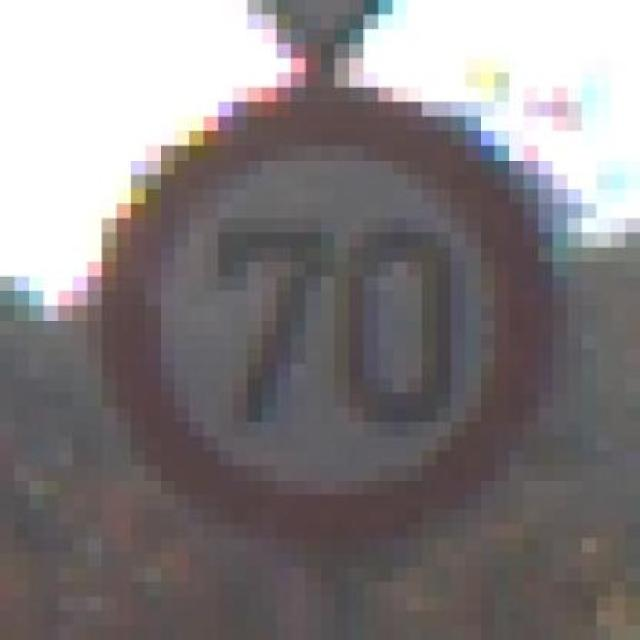forb_speed_over_70: (115, 94, 550, 532)
